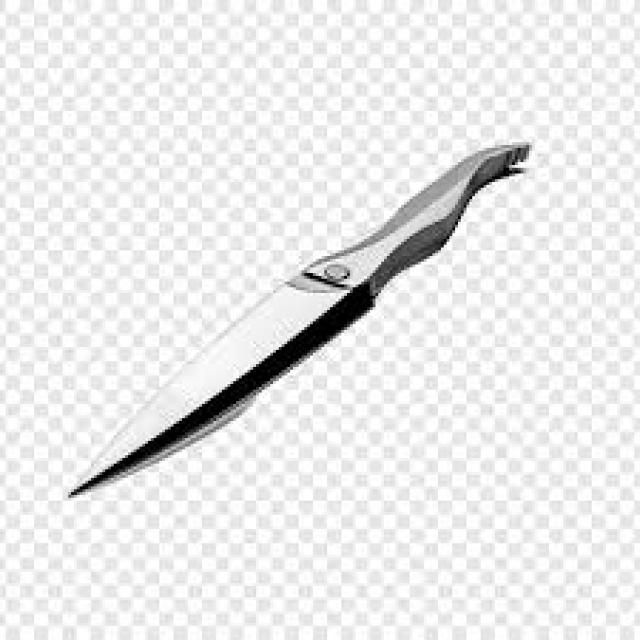Knife: (65, 136, 529, 498)
